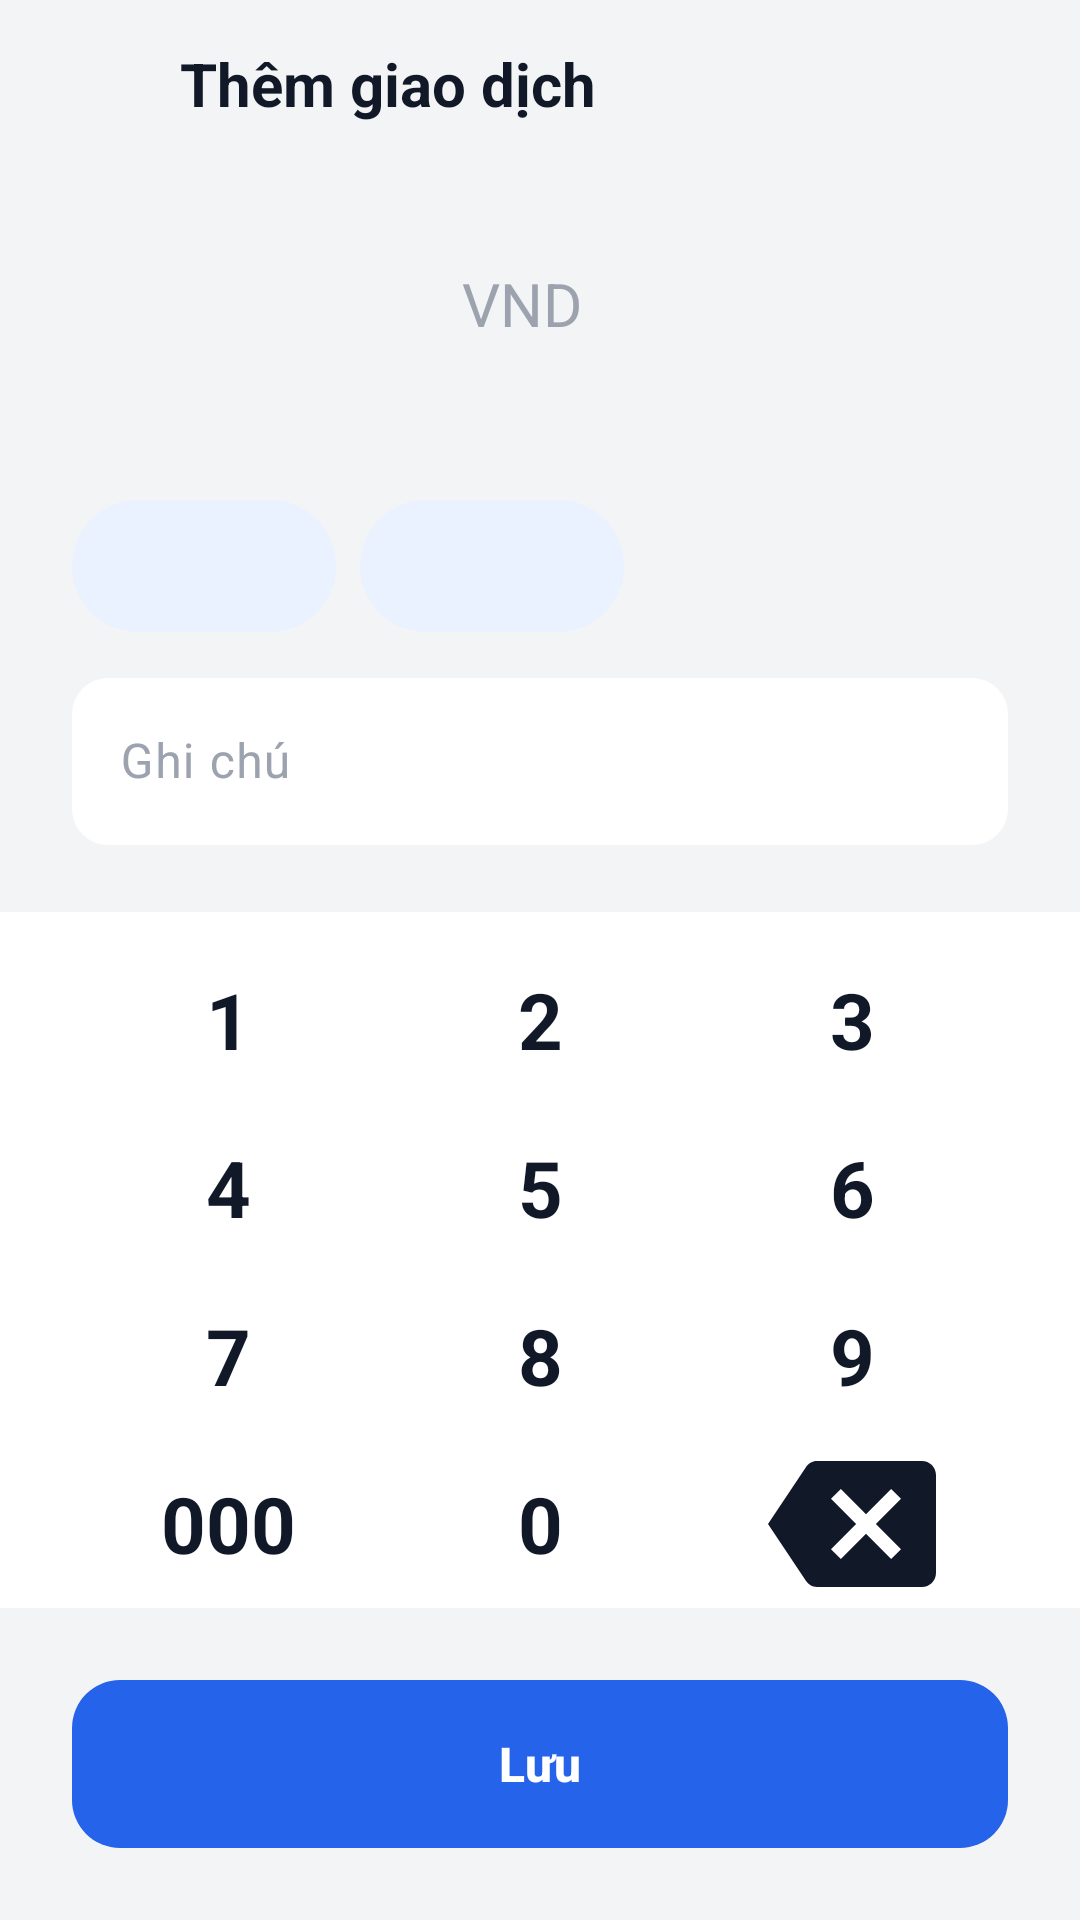

Icons on this 1080 x 1920 Android screen, each with its box as (x1, y1, x2, y2):
Xóa: (768, 1461, 936, 1587)
